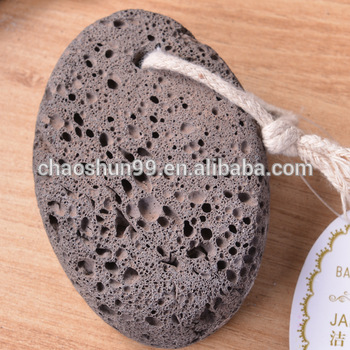volcanic_rock: (30, 11, 280, 350)
